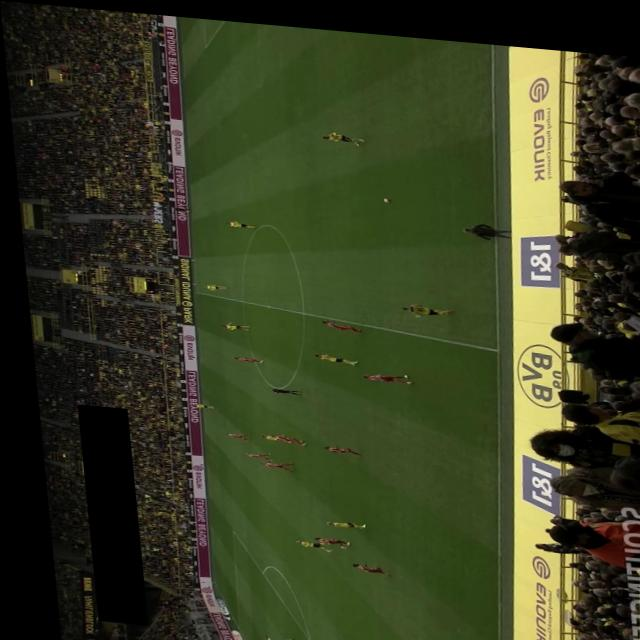goalkeeper: (250, 631, 283, 640)
player: (394, 295, 449, 311), (354, 364, 406, 377), (319, 124, 364, 139), (341, 554, 379, 571), (307, 347, 352, 360), (315, 314, 356, 328), (284, 534, 323, 547), (251, 454, 286, 467), (303, 530, 339, 541), (315, 439, 353, 449), (264, 429, 298, 440), (316, 514, 356, 523), (221, 215, 254, 225), (215, 316, 244, 327), (236, 445, 262, 455), (227, 352, 257, 359), (197, 279, 222, 287), (218, 429, 242, 437), (184, 399, 207, 406)
referee: (260, 382, 295, 391), (165, 202, 189, 210)
